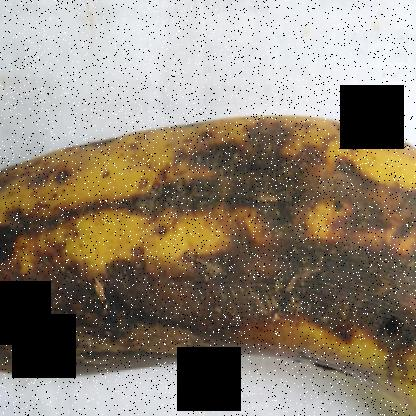rotten: (1, 92, 415, 415)
